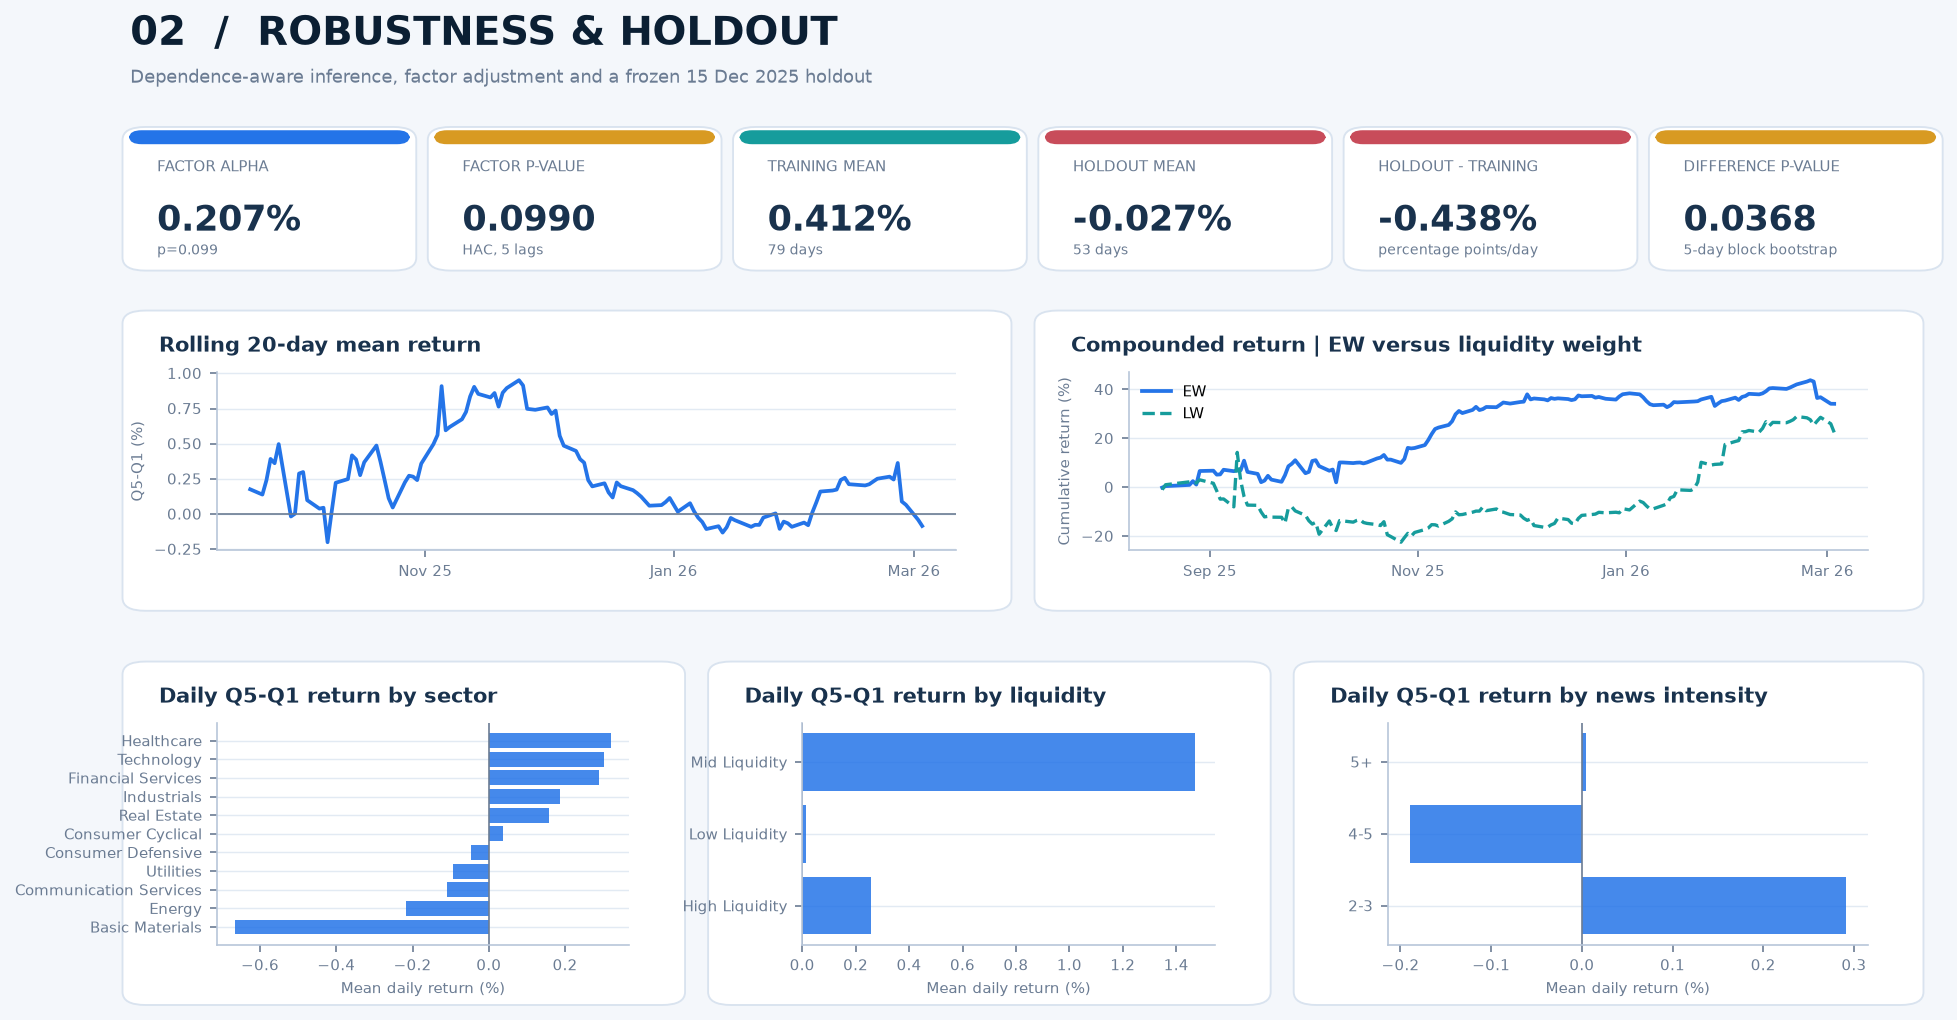

The page's visual inventory and layout, read from the dashboard file:
{"tool":"powerbi","page":{"name":"02 Robustness & Holdout","canvas":[1280,720],"ordinal":1},"visuals":[{"type":"textbox","box":[24,14,920,76],"z":0},{"type":"card","title":"Factor alpha","fields":{"Values":["fct_signal_daily.Factor Adjusted Alpha"]},"box":[24,108,182,100],"z":2},{"type":"card","title":"Factor p-value","fields":{"Values":["fct_signal_daily.Factor Alpha HAC p-value"]},"box":[226,108,182,100],"z":3},{"type":"card","title":"Training mean","fields":{"Values":["fct_signal_daily.In Sample Mean"]},"box":[428,108,182,100],"z":4},{"type":"card","title":"Holdout mean","fields":{"Values":["fct_signal_daily.Holdout Mean"]},"box":[630,108,182,100],"z":5},{"type":"card","title":"Holdout - training","fields":{"Values":["fct_signal_daily.OOS Minus IS"]},"box":[832,108,182,100],"z":6},{"type":"card","title":"Difference p-value","fields":{"Values":["fct_signal_daily.OOS-IS Bootstrap p-value"]},"box":[1034,108,222,100],"z":7},{"type":"areaChart","title":"Rolling 20-day mean return","fields":{"Category":["fct_signal_rolling.date_t"],"Y":["Avg(fct_signal_rolling.spread_mean_20d)"]},"box":[24,228,610,220],"z":20},{"type":"lineChart","title":"Compounded return | EW versus liquidity weight","fields":{"Y":["fct_signal_daily.Cumulative Spread"],"Category":["fct_signal_daily.date_t"],"Y2":["fct_signal_daily.Cumulative Spread (VW)"]},"box":[654,228,602,220],"z":21},{"type":"clusteredBarChart","title":"Daily Q5-Q1 return by sector","fields":{"Y":["fct_signal_panel (3).EW Spread"],"Category":["fct_signal_panel (3).sector"]},"box":[24,468,386,226],"z":30},{"type":"clusteredBarChart","title":"Daily Q5-Q1 return by liquidity","fields":{"Category":["fct_signal_panel (3).liquidity_bucket"],"Y":["fct_signal_panel (3).EW Spread"]},"box":[430,468,386,226],"z":31},{"type":"clusteredBarChart","title":"Daily Q5-Q1 return by news intensity","fields":{"Category":["fct_signal_panel (3).news_count_bucket"],"Y":["fct_signal_panel (3).EW Spread"]},"box":[836,468,420,226],"z":32}]}

Visuals, with their boxes on the page's 1280x720 design canvas (x1, y1, x2, y2). These are canvas units, not pixel positions in the 1957x1020 screenshot, which may show the page scaled, cropped or inside an application window:
textbox: Rect(24, 14, 944, 90)
"Factor alpha" card: Rect(24, 108, 206, 208)
"Factor p-value" card: Rect(226, 108, 408, 208)
"Training mean" card: Rect(428, 108, 610, 208)
"Holdout mean" card: Rect(630, 108, 812, 208)
"Holdout - training" card: Rect(832, 108, 1014, 208)
"Difference p-value" card: Rect(1034, 108, 1256, 208)
"Rolling 20-day mean return" areaChart: Rect(24, 228, 634, 448)
"Compounded return | EW versus liquidity weight" lineChart: Rect(654, 228, 1256, 448)
"Daily Q5-Q1 return by sector" clusteredBarChart: Rect(24, 468, 410, 694)
"Daily Q5-Q1 return by liquidity" clusteredBarChart: Rect(430, 468, 816, 694)
"Daily Q5-Q1 return by news intensity" clusteredBarChart: Rect(836, 468, 1256, 694)
